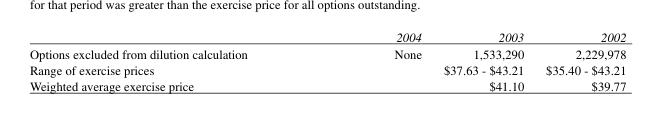table: (28, 29, 625, 94)
table column: (28, 29, 320, 94), (320, 29, 431, 94), (431, 29, 534, 94), (534, 29, 625, 94)
table column header: (28, 29, 625, 44)
table row: (28, 60, 625, 77), (28, 77, 625, 94), (28, 44, 625, 60), (28, 29, 625, 44)
